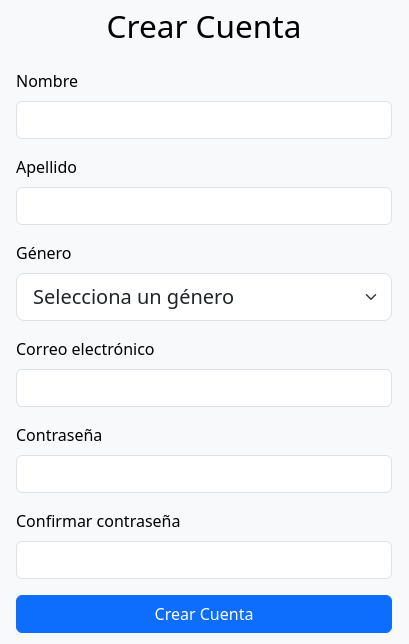
Test: Componente Registro › muestra error si el correo ya está registrado
This screenshot has width=409, height=644.
Type "Juan" into the field labelled "Nombre" at (204, 120), box [16,101,392,139]
Type "Pérez" into the field labelled "Apellido" at (204, 206), box [16,187,392,225]
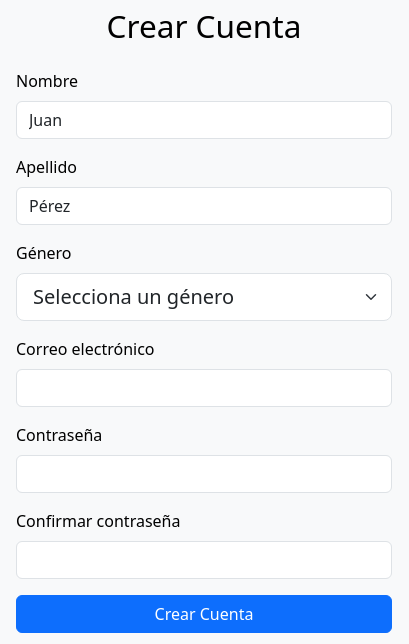
Select "Masculino" in the dropdown labelled "Género" at (204, 297), box [16,273,392,321]
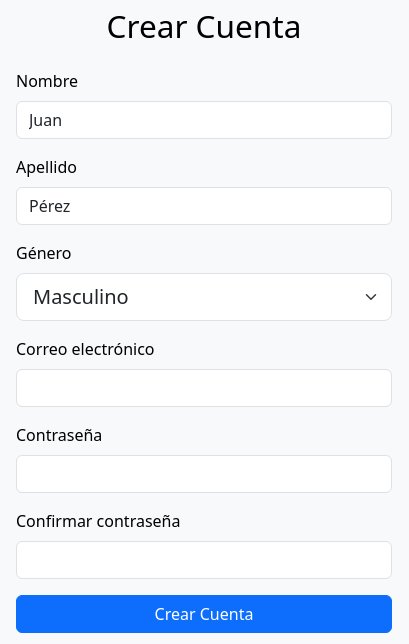
Type "juan@mail.com" into the field labelled "Correo electrónico" at (204, 388), box [16,369,392,407]
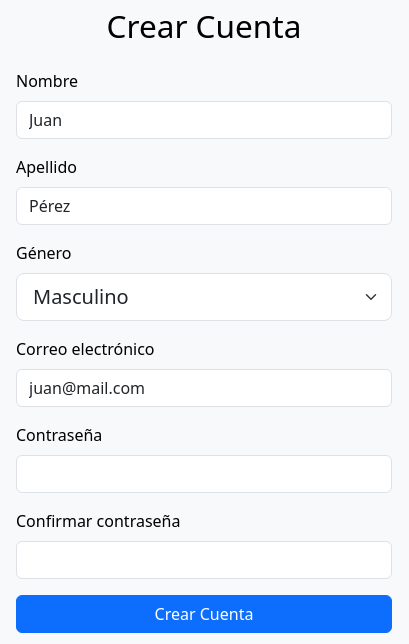
Type "Password1" into the password field labelled "Contraseña" at (204, 474), box [16,455,392,493]
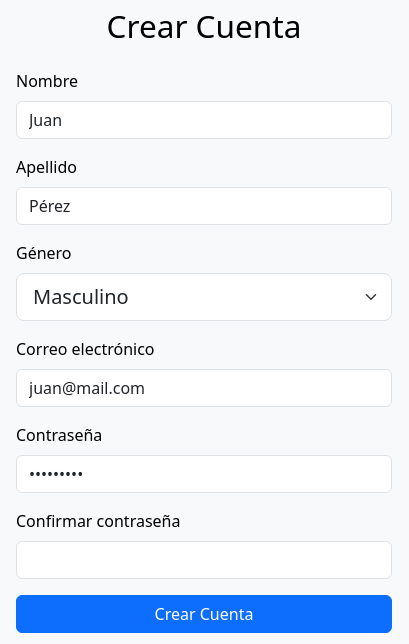
Type "Password1" into the password field labelled "Confirmar contraseña" at (204, 560), box [16,541,392,579]
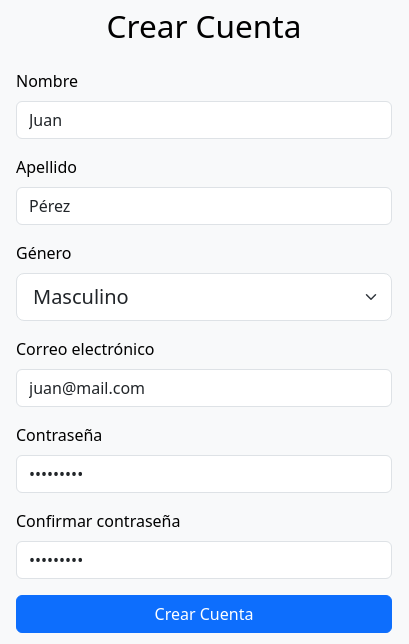
Click the button "Crear Cuenta" at (204, 614), box [16,595,392,633]
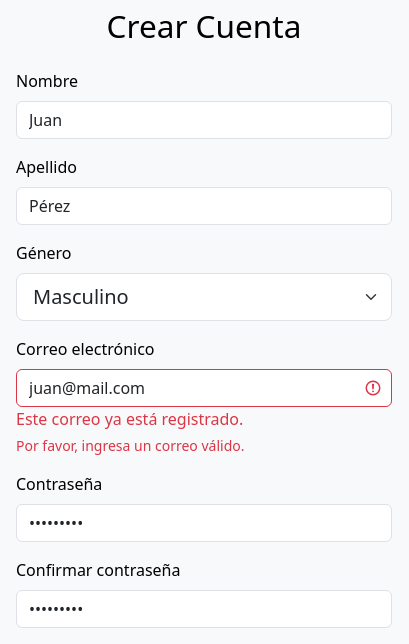
Now the text "Este correo ya está registrado." is shown, box [16,408,243,430]
